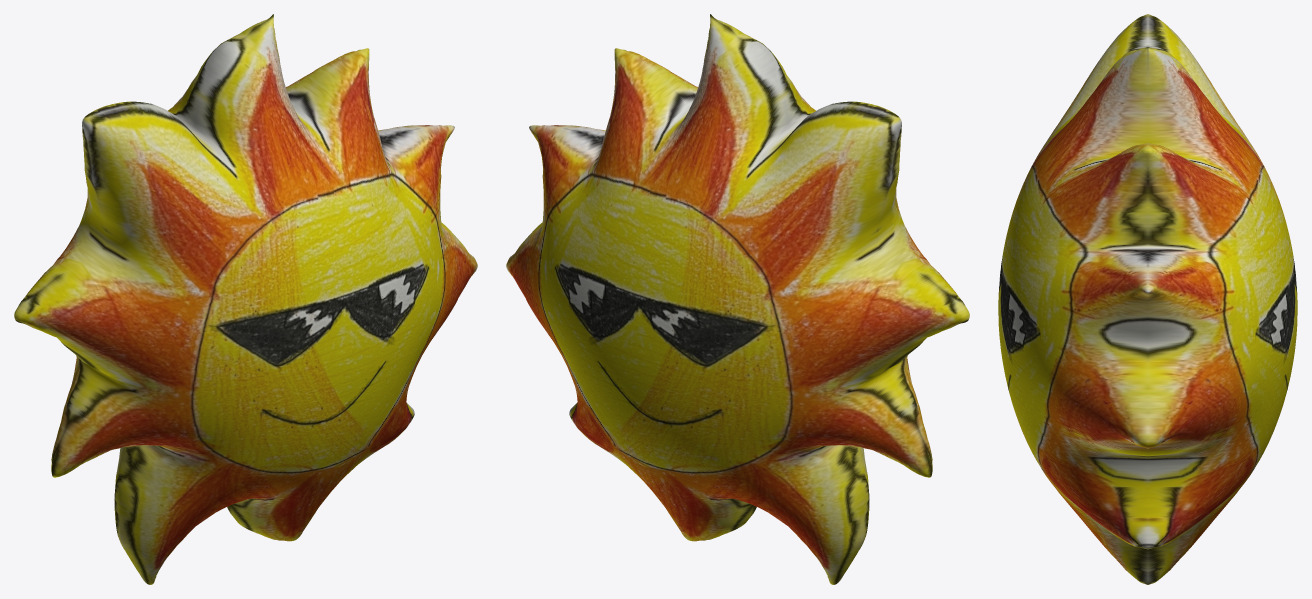
File: 이태양_태양.glb
The picture shows the model from 3 angles, left to right: view 1: azimuth 30°, elevation 25°; view 2: azimuth 150°, elevation 25°; view 3: azimuth 270°, elevation 25°; orthographic projection.
Bounding box in the file's own units: 5.57 × 6.24 × 3.13.
1 material, 1 textured.
